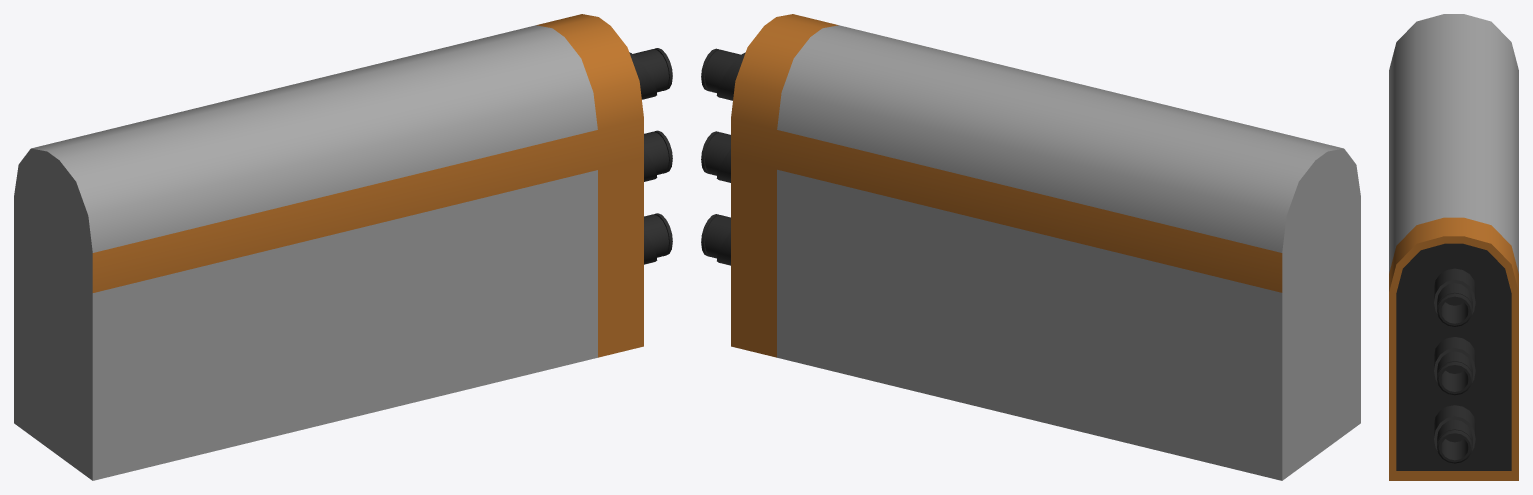
Rendered from Barrel_AR_1.glb.
3 views of the same model, side by side, from view 1: azimuth 30°, elevation 25°; view 2: azimuth 150°, elevation 25°; view 3: azimuth 270°, elevation 25° (orthographic). The views are drawn at different scales.
Parts seen in each view (by area): view 1: Barrel_AR_1; view 2: Barrel_AR_1; view 3: Barrel_AR_1.
Part boxes in pixels (left/top/right/bottom): Barrel_AR_1: left=14, top=14, right=672, bottom=480; Barrel_AR_1: left=701, top=14, right=1360, bottom=480; Barrel_AR_1: left=1389, top=14, right=1518, bottom=480.
Bounding box in the file's own units: 0.5138 × 0.2384 × 0.1147.
